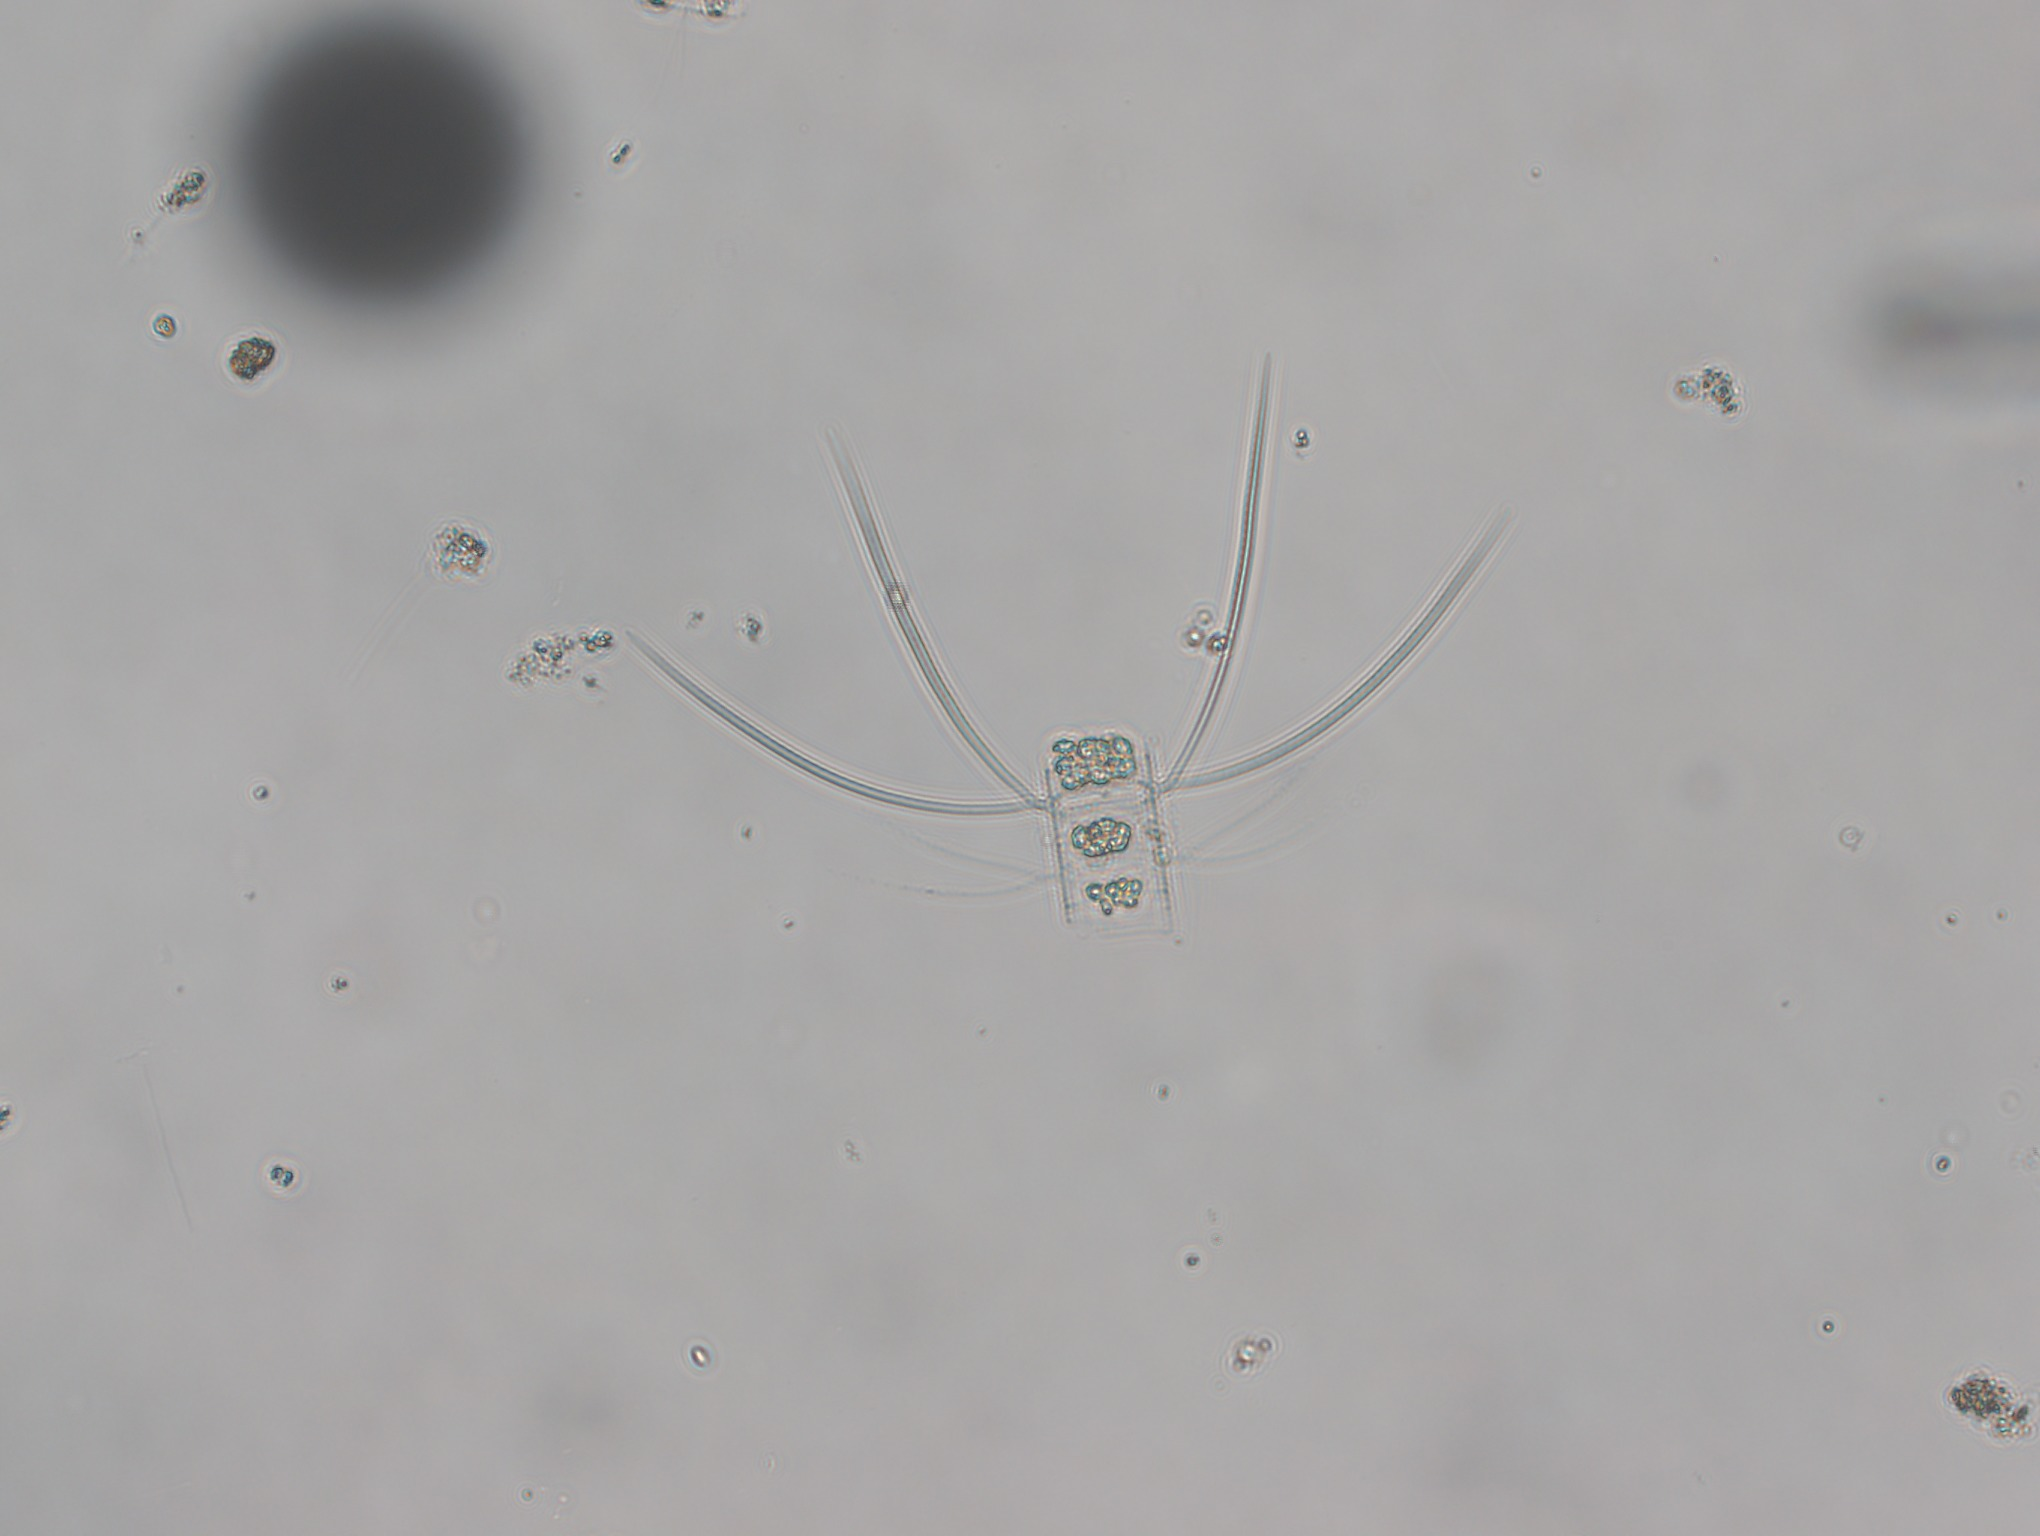chaetoceros: (627, 379, 1551, 954)
